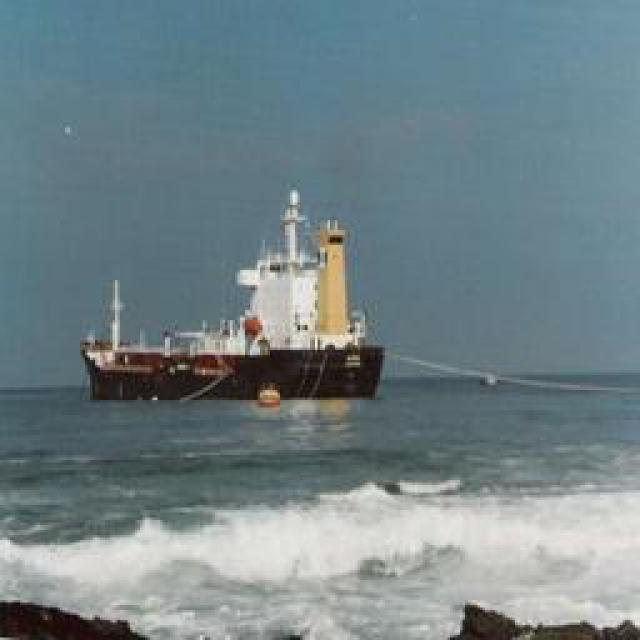Ship: (85, 184, 385, 409)
